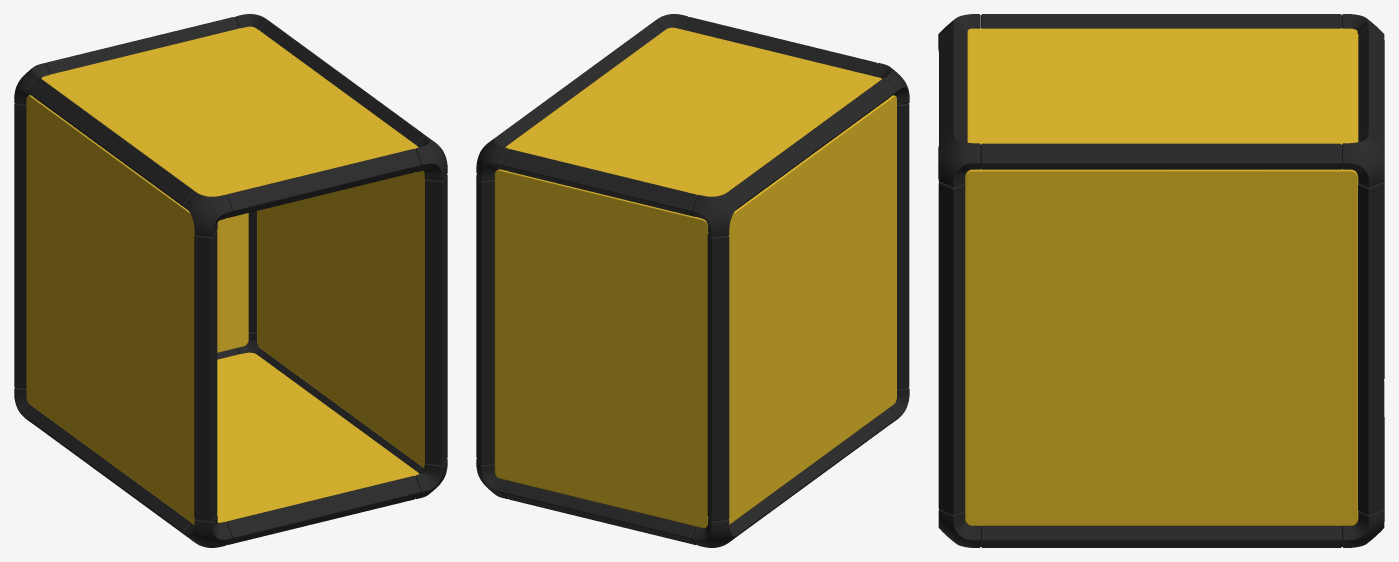
3 renders of one model, left to right at view 1: azimuth 30°, elevation 25°; view 2: azimuth 150°, elevation 25°; view 3: azimuth 270°, elevation 25°, orthographic. The views are drawn at different scales.
Parts seen in each view (by area): view 1: 229x329x329; view 2: 229x329x329; view 3: 229x329x329.
Boxes of the visible parts, <box> form: 229x329x329: <box>14,14,447,547</box>; 229x329x329: <box>476,14,909,547</box>; 229x329x329: <box>938,14,1384,547</box>.
Size of the model in its own units: 0.3067 by 0.4066 by 0.4063.
